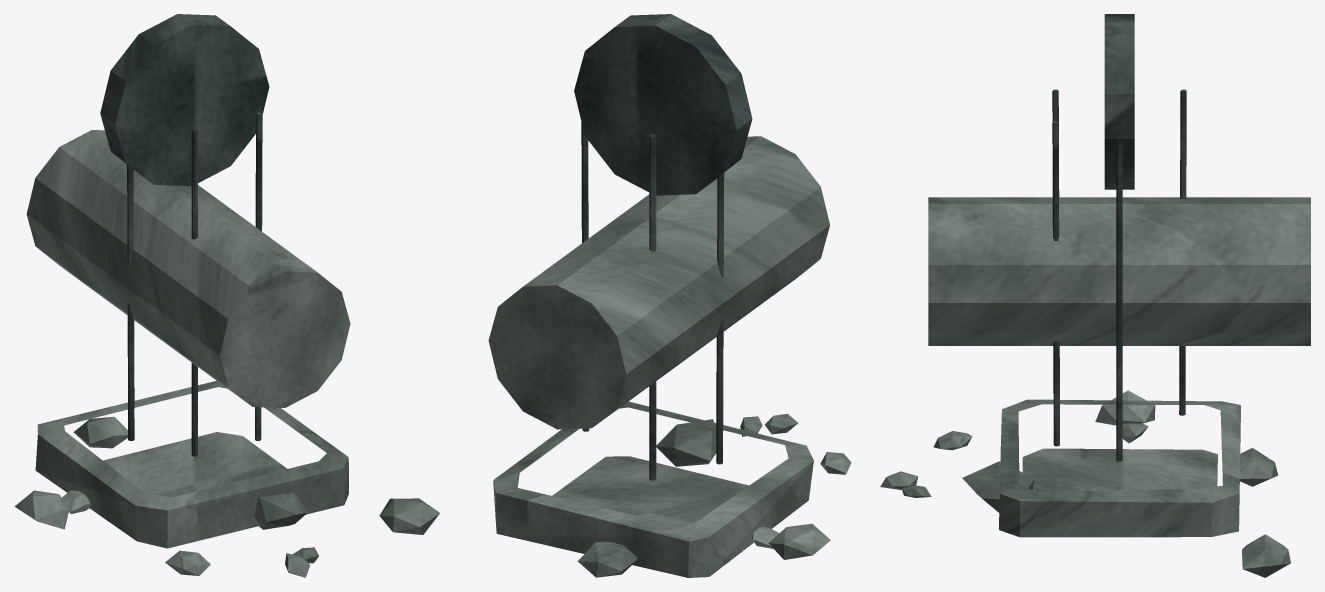
File: 0255_broken_column_05.glb
3 views of the same model, side by side, from view 1: azimuth 30°, elevation 25°; view 2: azimuth 150°, elevation 25°; view 3: azimuth 270°, elevation 25° (orthographic). The views are drawn at different scales.
Visible parts, largest first — view 1: stone, stone_dark; view 2: stone, stone_dark; view 3: stone, stone_dark.
Part boxes in pixels (x1=…): stone: x1=14, y1=130, x2=350, y2=577; stone_dark: x1=100, y1=14, x2=269, y2=456; stone: x1=379, y1=136, x2=851, y2=577; stone_dark: x1=574, y1=14, x2=752, y2=480; stone: x1=880, y1=197, x2=1310, y2=577; stone_dark: x1=1052, y1=14, x2=1186, y2=461.
Size of the model in its own units: 2.03 by 2.6 by 2.17.
Materials: 2 (2 with a texture image).
